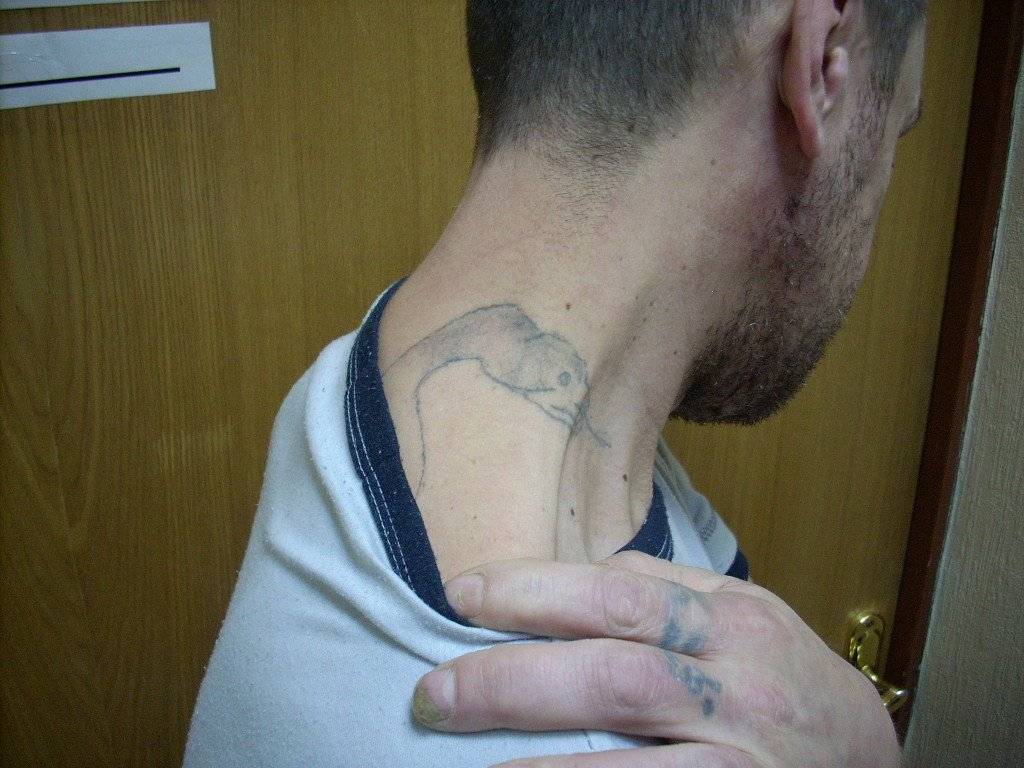tatu7_zmeya: (340, 307, 600, 537)
